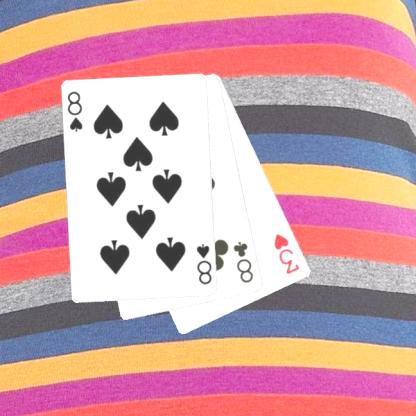3H: (271, 231, 301, 276)
8C: (231, 239, 256, 285)
8S: (65, 88, 85, 134), (194, 241, 213, 286)
